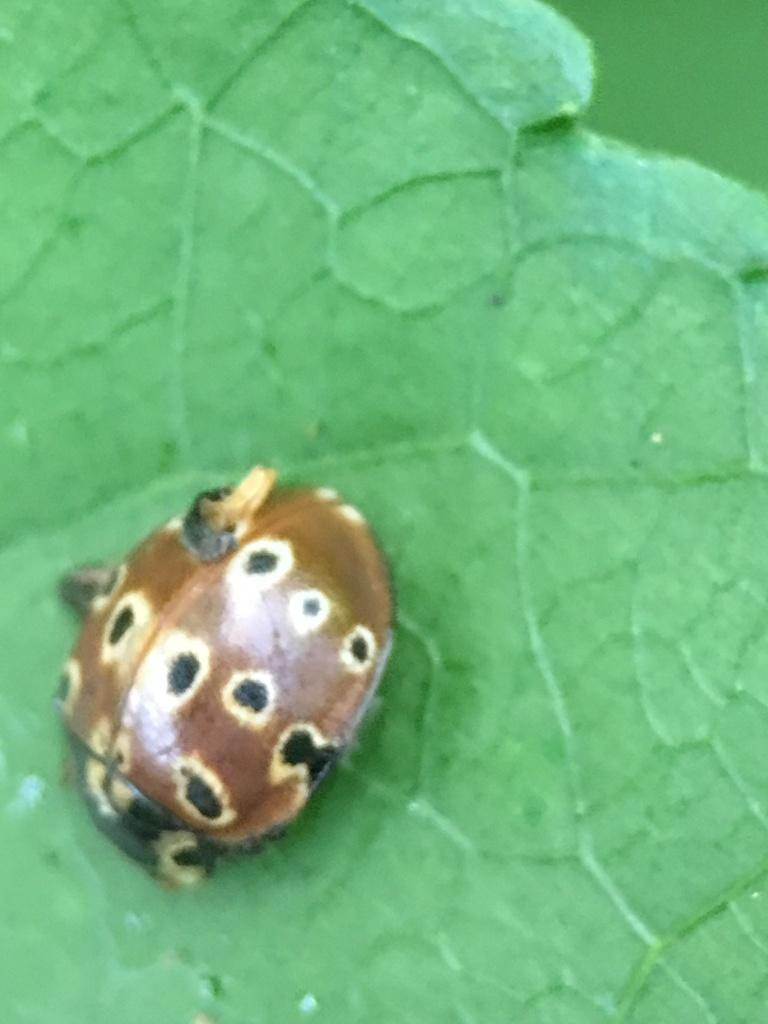ladybug: (51, 459, 411, 904)
